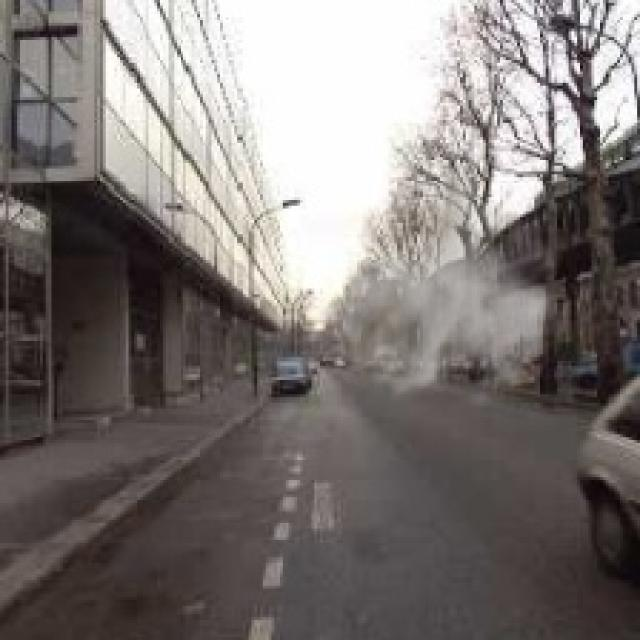smoke: (314, 157, 566, 423)
